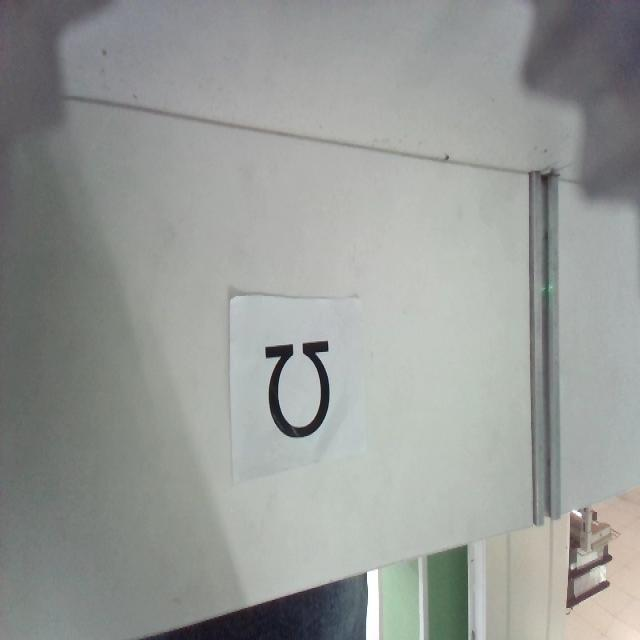OM: (262, 339, 330, 438)
